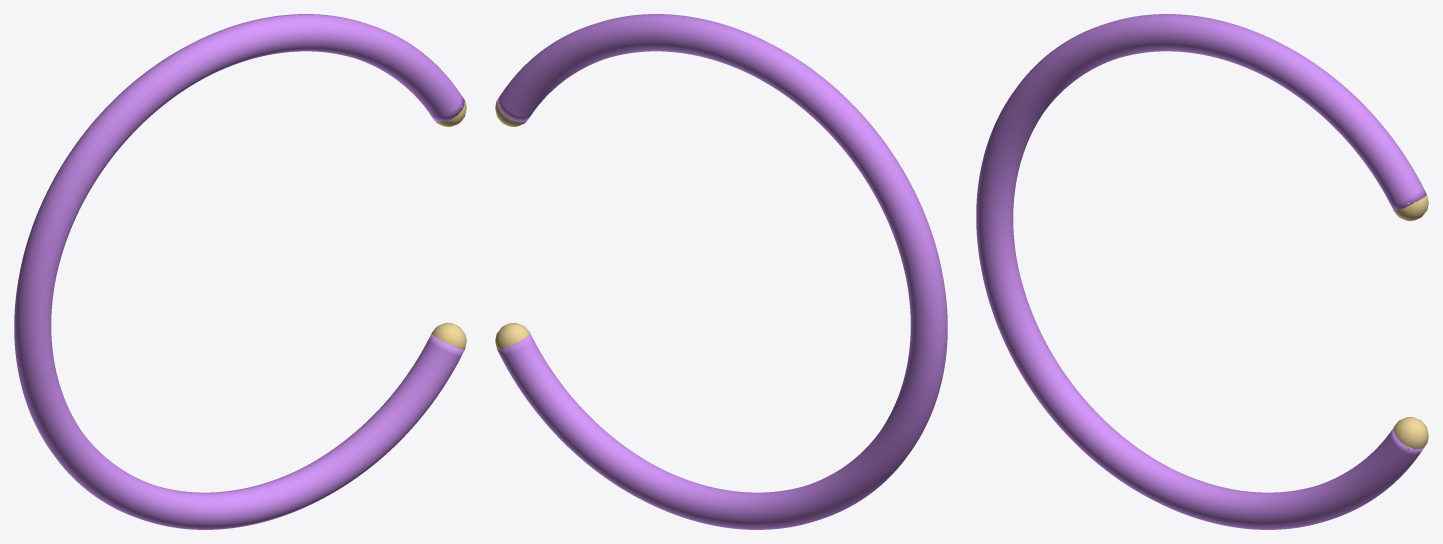
Rendered from grand-arc-kWKpu7my.glb.
3 views of the same model, side by side, from view 1: azimuth 30°, elevation 25°; view 2: azimuth 150°, elevation 25°; view 3: azimuth 330°, elevation 25° (orthographic).
Visible parts, largest first — view 1: R3D_grand-arc_Body_0, R3D_grand-arc_Tip_1; view 2: R3D_grand-arc_Body_0, R3D_grand-arc_Tip_1; view 3: R3D_grand-arc_Body_0, R3D_grand-arc_Tip_1.
Boxes of the visible parts, x1,y1,x2,y2 form: R3D_grand-arc_Body_0: [14, 14, 464, 529]; R3D_grand-arc_Tip_1: [431, 322, 466, 352]; R3D_grand-arc_Body_0: [497, 14, 947, 529]; R3D_grand-arc_Tip_1: [495, 322, 530, 352]; R3D_grand-arc_Body_0: [976, 14, 1426, 529]; R3D_grand-arc_Tip_1: [1393, 417, 1428, 449].
Bounding box in the file's own units: 3.32 × 3.54 × 0.24.
